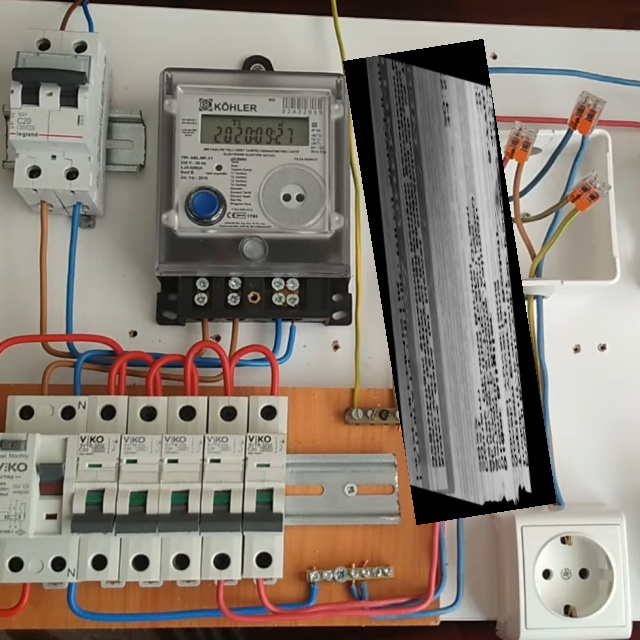electricity-bill: (343, 39, 557, 525)
